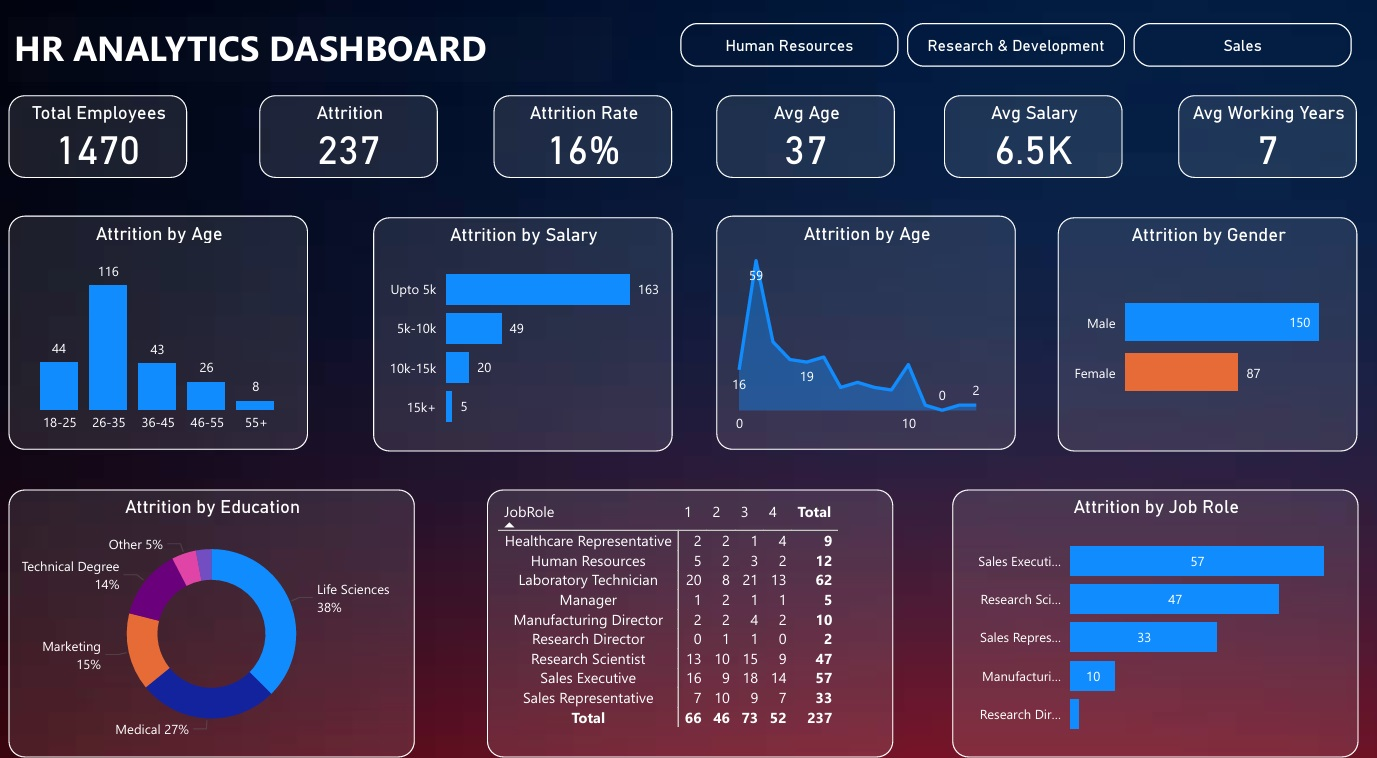

The page's visual inventory and layout, read from the dashboard file:
{"tool":"powerbi","page":{"name":"Page 1","canvas":[1280,720],"ordinal":0},"visuals":[{"type":"donutChart","title":"Attrition by Education","fields":{"Y":["Sum(HR_Analytics.AttritionCount)"],"Category":["HR_Analytics.EducationField"]},"box":[14.2,459.5,372.6,246.3],"z":0},{"type":"columnChart","title":"Attrition by Age","fields":{"Category":["HR_Analytics.AgeGroup"],"Y":["Sum(HR_Analytics.AttritionCount)"]},"box":[14.2,206.8,274.7,214.7],"z":1000},{"type":"pivotTable","fields":{"Rows":["HR_Analytics.JobRole"],"Columns":["HR_Analytics.JobSatisfaction"],"Values":["Sum(HR_Analytics.AttritionCount)"]},"box":[453.2,459.5,372.6,246.3],"z":2000},{"type":"barChart","title":"Attrition by Salary","fields":{"Category":["HR_Analytics.SalarySlab"],"Y":["Sum(HR_Analytics.AttritionCount)"]},"box":[349,208.4,274.7,214.7],"z":3000},{"type":"barChart","title":"Attrition by Job Role","fields":{"Category":["HR_Analytics.JobRole"],"Y":["Sum(HR_Analytics.AttritionCount)"]},"box":[879.5,459.5,372.6,246.3],"z":4000},{"type":"areaChart","title":"Attrition by Age","fields":{"Category":["HR_Analytics.YearsAtCompany"],"Y":["Sum(HR_Analytics.AttritionCount)"]},"box":[663.2,206.8,275,215],"z":5000},{"type":"barChart","title":"Attrition by Gender","fields":{"Y":["Sum(HR_Analytics.AttritionCount)"],"Category":["HR_Analytics.Gender"]},"box":[977.4,208.4,275,215],"z":6000},{"type":"textbox","box":[13.6,25.7,554.2,59.1],"z":7000},{"type":"card","title":"Total Employees","fields":{"Values":["CountNonNull(HR_Analytics.EmpID)"]},"box":[14.2,96.3,164.2,75.8],"z":8000},{"type":"card","title":"Attrition","fields":{"Values":["Sum(HR_Analytics.AttritionCount)"]},"box":[243.2,96.3,164.2,75.8],"z":9000},{"type":"card","title":"Attrition Rate","fields":{"Values":["HR_Analytics.AttritionRate"]},"box":[459.5,96.3,164.2,75.8],"z":10000},{"type":"card","title":"Avg Age","fields":{"Values":["Avg(HR_Analytics.Age)"]},"box":[663.2,96.3,164.2,75.8],"z":11000},{"type":"card","title":"Avg Working Years","fields":{"Values":["Avg(HR_Analytics.YearsAtCompany)"]},"box":[1087.9,96.3,164.2,75.8],"z":12000},{"type":"card","title":"Avg Salary","fields":{"Values":["Avg(HR_Analytics.MonthlyIncome)"]},"box":[871.6,96.3,164.2,75.8],"z":12001},{"type":"advancedSlicerVisual","fields":{"Values":["HR_Analytics.Department"]},"box":[625.3,25.3,626.9,50.5],"z":12002}]}

Visuals, with their boxes in screenshot pixels (x1, y1, x2, y2), scaled from the page's 1280x720 canvas onto the 1377x758 screenshot:
"Attrition by Education" donutChart: rect(15, 484, 416, 743)
"Attrition by Age" columnChart: rect(15, 218, 311, 444)
pivotTable - HR_Analytics.JobRole x HR_Analytics.JobSatisfaction: rect(488, 484, 888, 743)
"Attrition by Salary" barChart: rect(375, 219, 671, 445)
"Attrition by Job Role" barChart: rect(946, 484, 1347, 743)
"Attrition by Age" areaChart: rect(713, 218, 1009, 444)
"Attrition by Gender" barChart: rect(1051, 219, 1347, 446)
textbox: rect(15, 27, 611, 89)
"Total Employees" card: rect(15, 101, 192, 181)
"Attrition" card: rect(262, 101, 438, 181)
"Attrition Rate" card: rect(494, 101, 671, 181)
"Avg Age" card: rect(713, 101, 890, 181)
"Avg Working Years" card: rect(1170, 101, 1347, 181)
"Avg Salary" card: rect(938, 101, 1114, 181)
advancedSlicerVisual - HR_Analytics.Department: rect(673, 27, 1347, 80)
